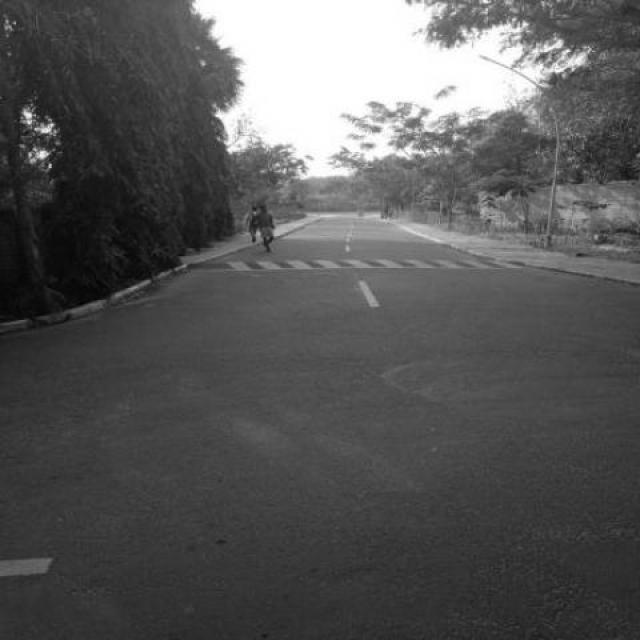Speed Bump: (192, 258, 530, 270)
